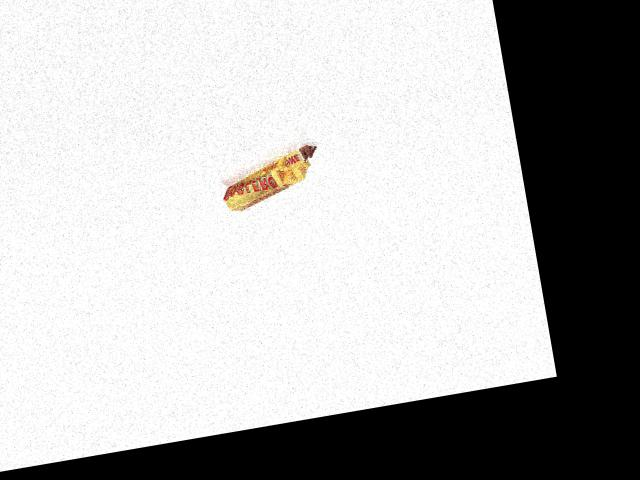chocolate: (216, 139, 325, 215)
